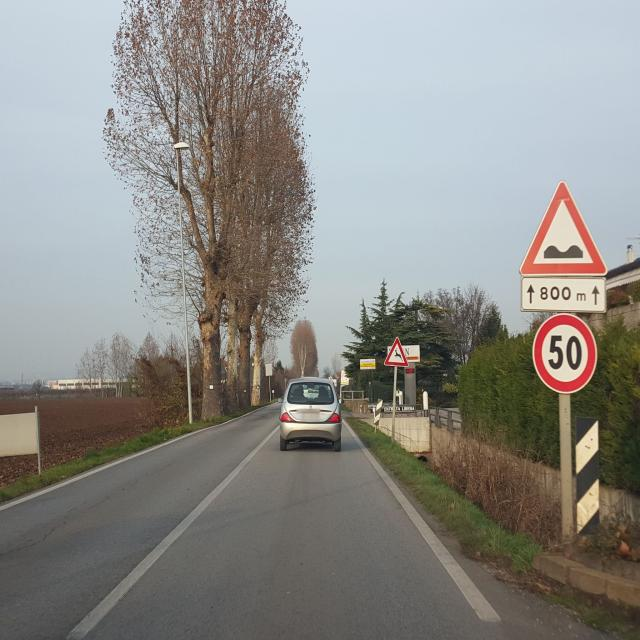car: (278, 376, 342, 452)
